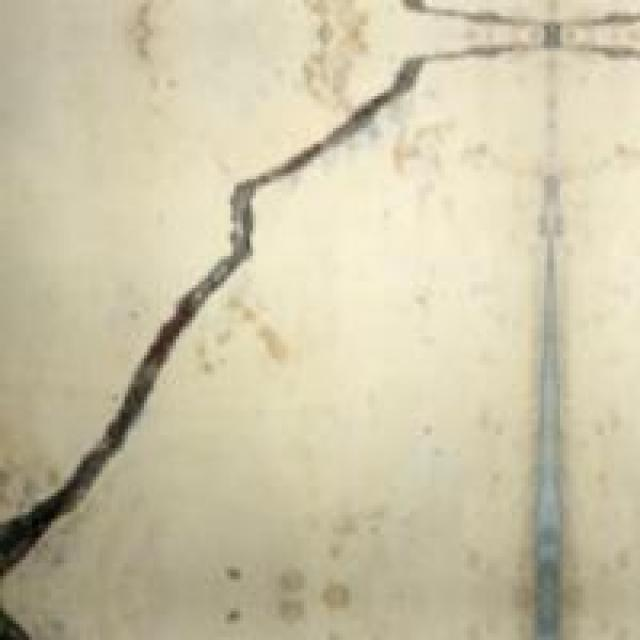Crack: (3, 29, 477, 509)
